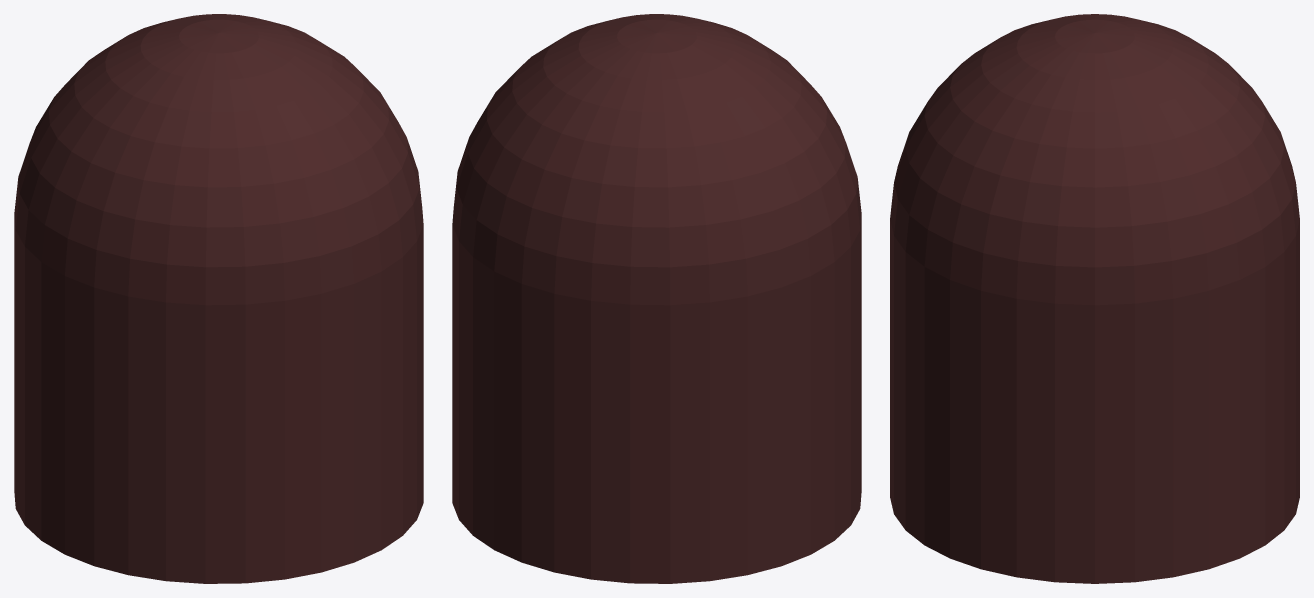
Rendered from orq_1.obj.
3 views of the same model, side by side, from view 1: azimuth 30°, elevation 25°; view 2: azimuth 150°, elevation 25°; view 3: azimuth 270°, elevation 25° (orthographic).
Visible parts, largest first — view 1: 球_球.003; view 2: 球_球.003; view 3: 球_球.003.
Part boxes in pixels (left/top/right/bottom): 球_球.003: left=14, top=14, right=423, bottom=583; 球_球.003: left=452, top=14, right=861, bottom=583; 球_球.003: left=890, top=14, right=1299, bottom=583.
Size of the model in its own units: 1.67 by 2.08 by 1.67.
